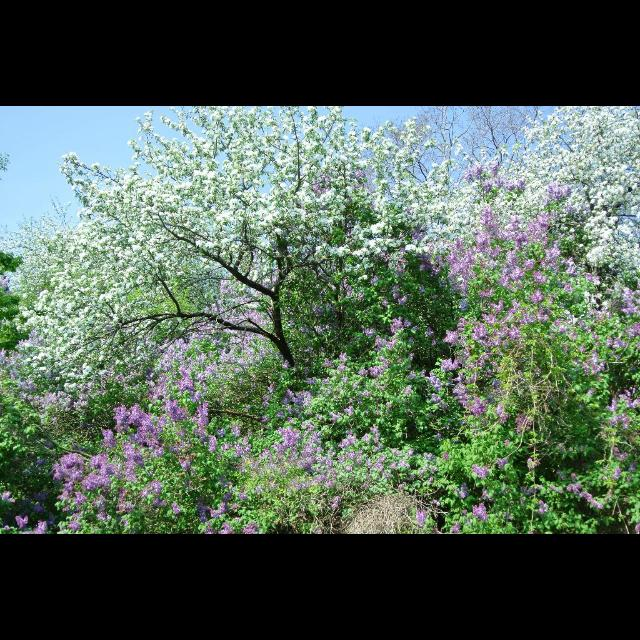Flower: (1, 106, 640, 534), (469, 395, 489, 421)
